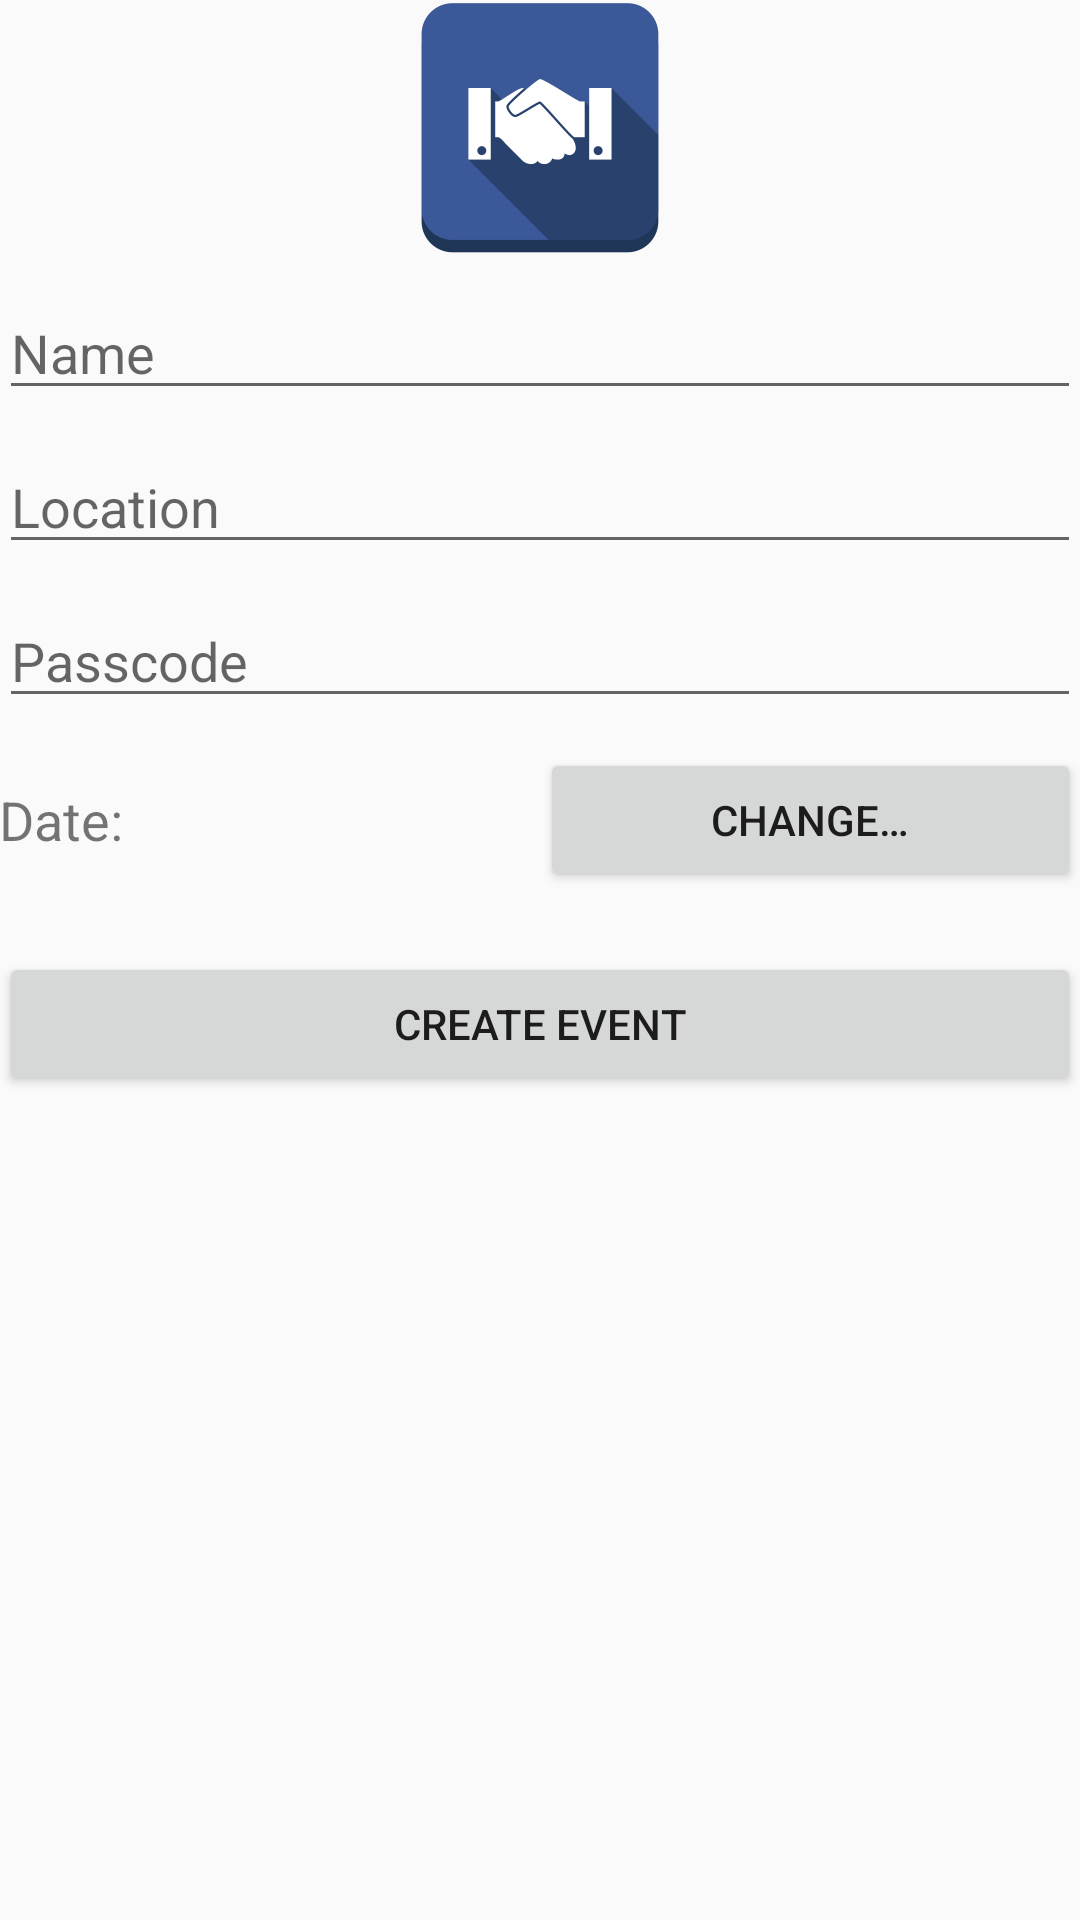

Icon click points for this 1080px×1920px phone screenshot, format point (x, y):
handshake: point (540, 128)
